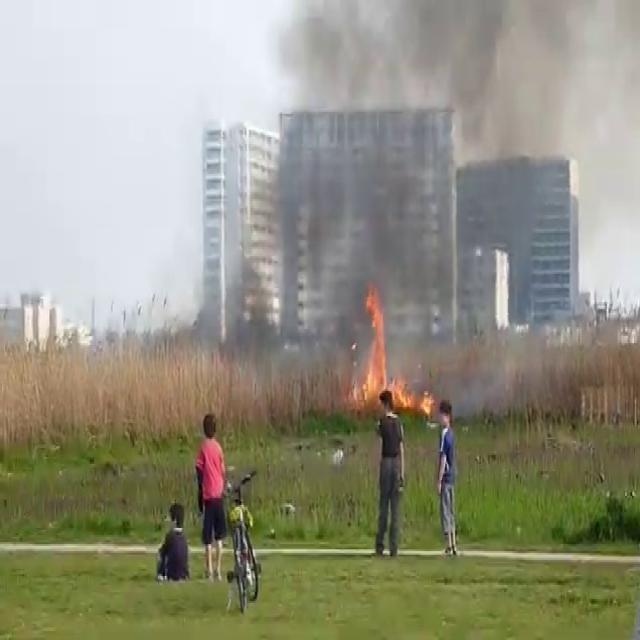Fire: (352, 282, 409, 410), (414, 381, 437, 424)
Smoke: (259, 0, 640, 343)
